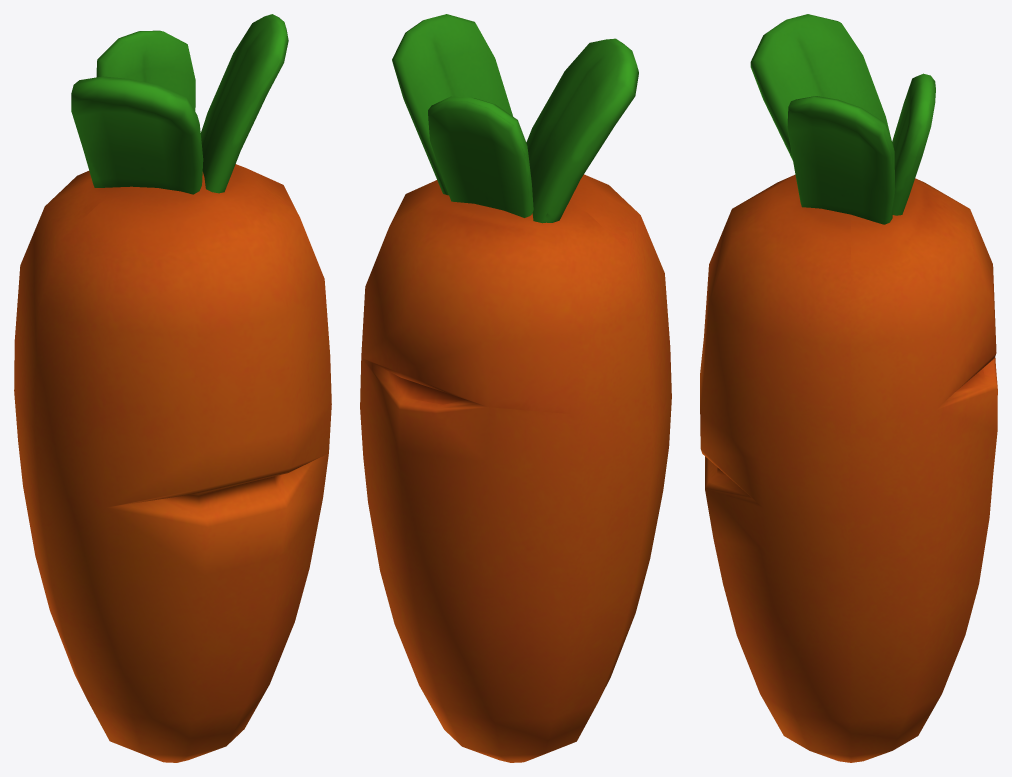
File: carrot_orange.fbx
The picture shows the model from 3 angles, left to right: view 1: azimuth 30°, elevation 25°; view 2: azimuth 150°, elevation 25°; view 3: azimuth 270°, elevation 25°; orthographic projection. The views are drawn at different scales.
Parts seen in each view (by area): view 1: carrot_orange; view 2: carrot_orange; view 3: carrot_orange.
Part boxes in pixels (<box>): carrot_orange: <box>14,14,331,762</box>; carrot_orange: <box>360,14,671,762</box>; carrot_orange: <box>700,14,997,762</box>.
Bounding box in the file's own units: 0.4243 × 1.05 × 0.4044.
